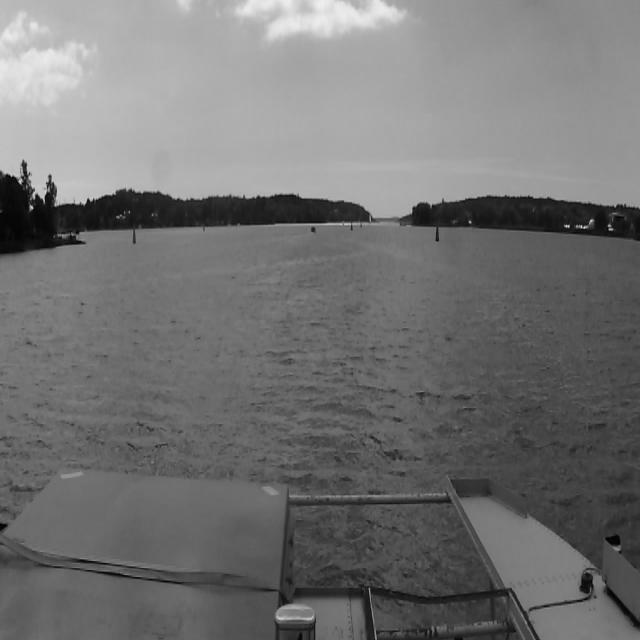buoy: (131, 222, 137, 251), (132, 228, 136, 244), (436, 226, 440, 242), (351, 220, 353, 233), (203, 224, 205, 232)
ship: (310, 226, 316, 233)
